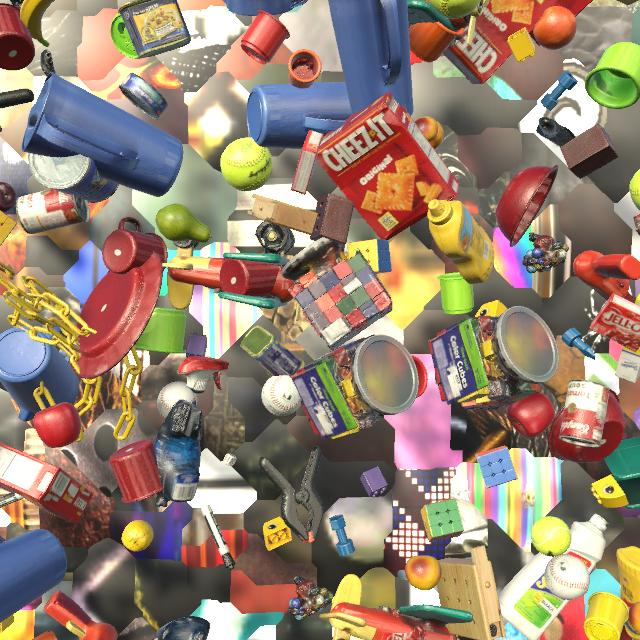ycb_002_master_chef_can: (28, 153, 119, 203)
ycb_003_cracker_box: (316, 92, 459, 240), (443, 0, 558, 84), (0, 442, 93, 523), (529, 0, 593, 46)
ycb_004_sugar_box: (615, 293, 640, 383)
ycb_005_tomato_soup_can: (558, 379, 609, 447), (16, 189, 90, 234)
ycb_006_mustard_bottle: (427, 199, 494, 284), (617, 546, 640, 640)
ycb_007_tuna_fish_can: (119, 73, 168, 120)
ycb_008_pudding_box: (633, 214, 640, 236)
ycb_009_gelatin_box: (590, 293, 640, 352), (291, 130, 324, 195), (382, 608, 426, 640)
ycb_010_potted_meat_can: (118, 0, 191, 58), (240, 325, 305, 377)
ycb_011_banana: (20, 0, 55, 47)
ycb_013_apple: (506, 392, 555, 438), (33, 402, 81, 448)
ycb_014_lemon: (122, 520, 153, 552)
ycb_015_peach: (405, 556, 442, 591), (415, 117, 444, 149), (628, 602, 640, 634)
ycb_016_pear: (156, 204, 212, 243)
ycb_017_orange: (534, 6, 577, 50)
ycb_018_plum: (0, 182, 17, 213)
